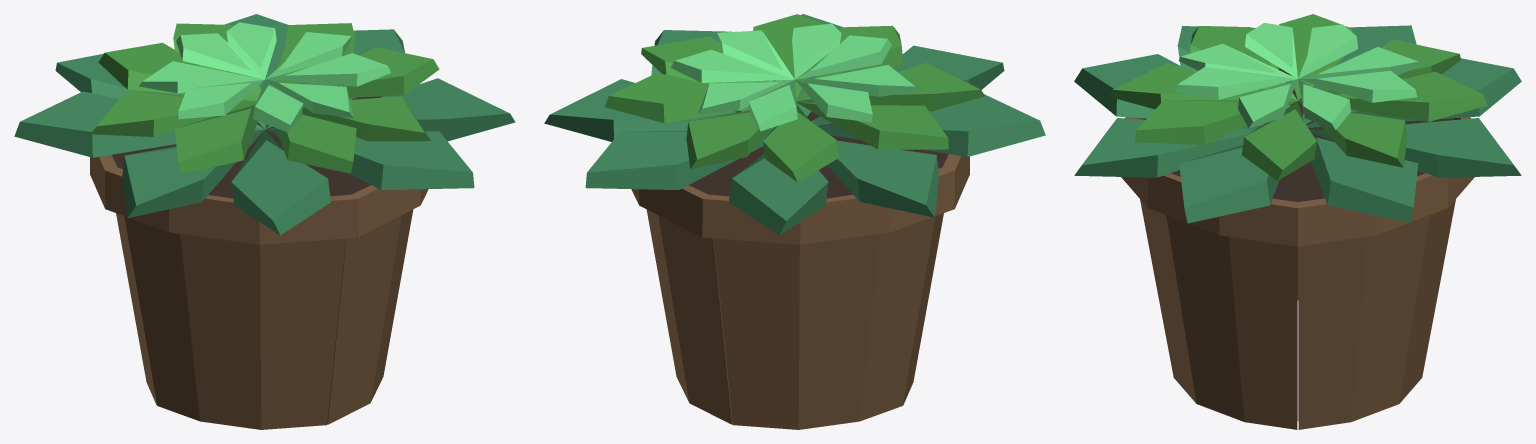
Rendered from Succulent.glb.
3 renders of one model, left to right at view 1: azimuth 30°, elevation 25°; view 2: azimuth 150°, elevation 25°; view 3: azimuth 270°, elevation 25°, orthographic.
Visible parts, largest first — view 1: Cube.006, Cube, Circle; view 2: Cube.006, Cube, Circle; view 3: Cube.006, Cube, Circle.
Boxes of the visible parts, left/top/right/bottom form: Cube.006: left=14, top=14, right=515, bottom=235; Cube: left=90, top=155, right=428, bottom=429; Circle: left=112, top=96, right=382, bottom=198; Cube.006: left=544, top=14, right=1045, bottom=235; Cube: left=631, top=154, right=969, bottom=429; Circle: left=689, top=80, right=948, bottom=198; Cube.006: left=1074, top=14, right=1521, bottom=223; Cube: left=1121, top=67, right=1474, bottom=429; Circle: left=1142, top=68, right=1454, bottom=201.
Bounding box in the file's own units: 2.44 × 1.86 × 2.43.
